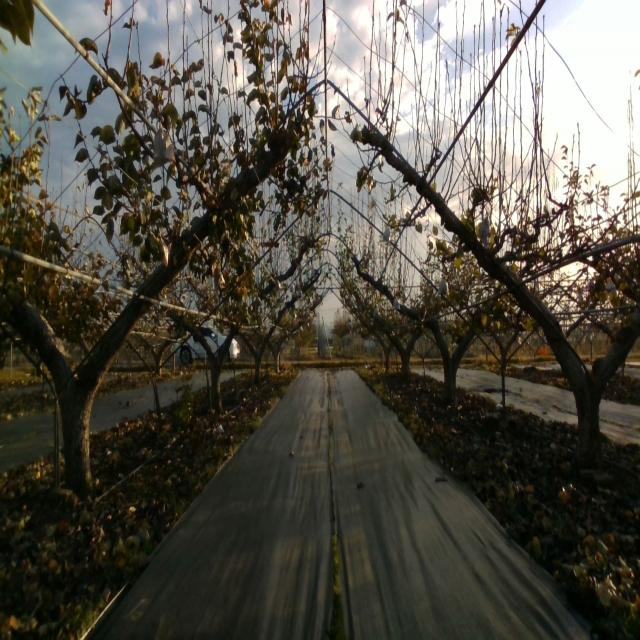pearbags: (153, 121, 176, 169), (478, 217, 491, 249), (158, 236, 170, 267), (437, 277, 450, 296)
